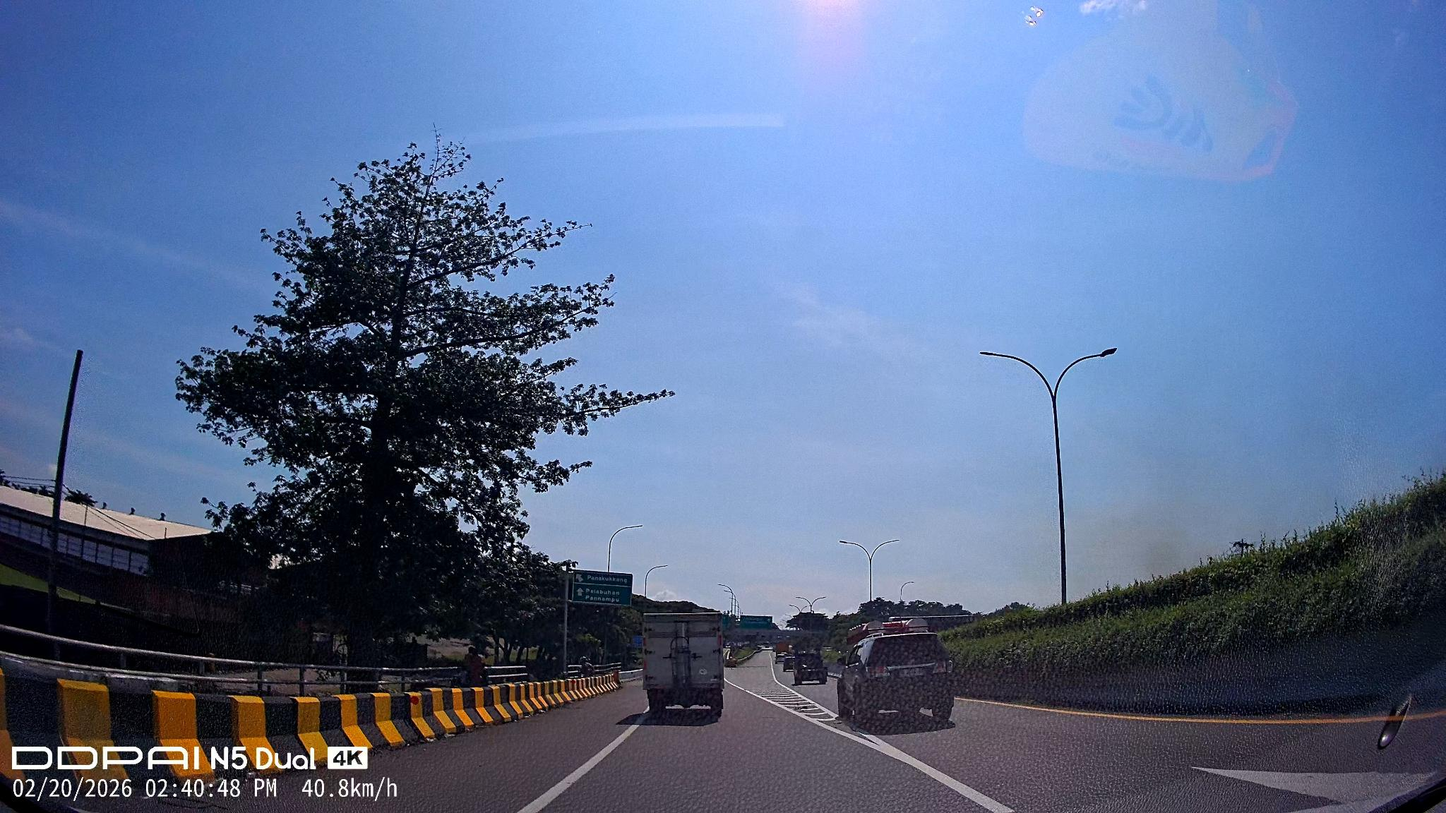rambu_teks: (573, 570, 632, 605)
